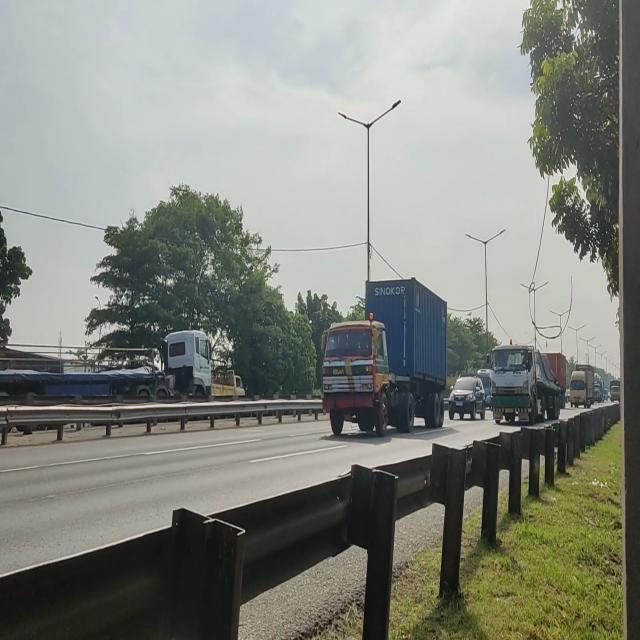Golongan IV: (320, 285, 450, 440)
